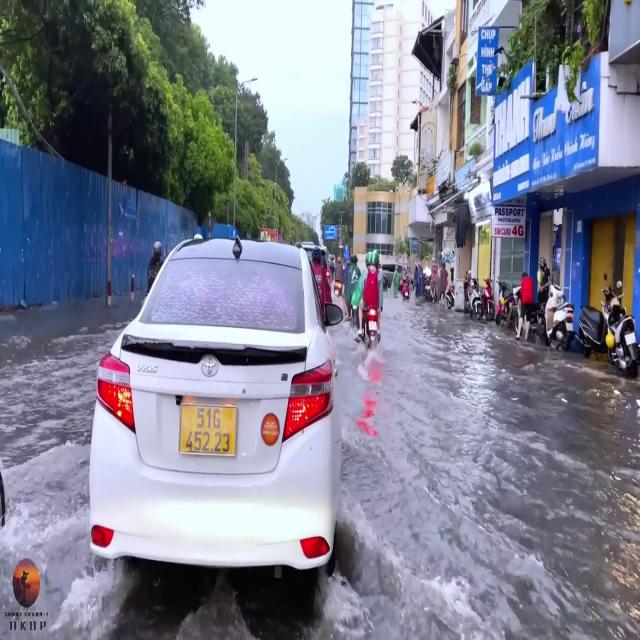bien_vang: (180, 404, 233, 454)
